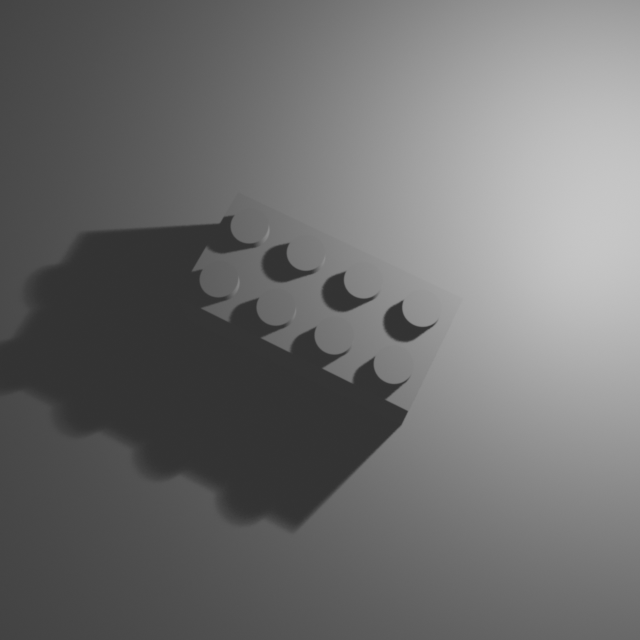lego_2x4: (175, 187, 465, 425)
